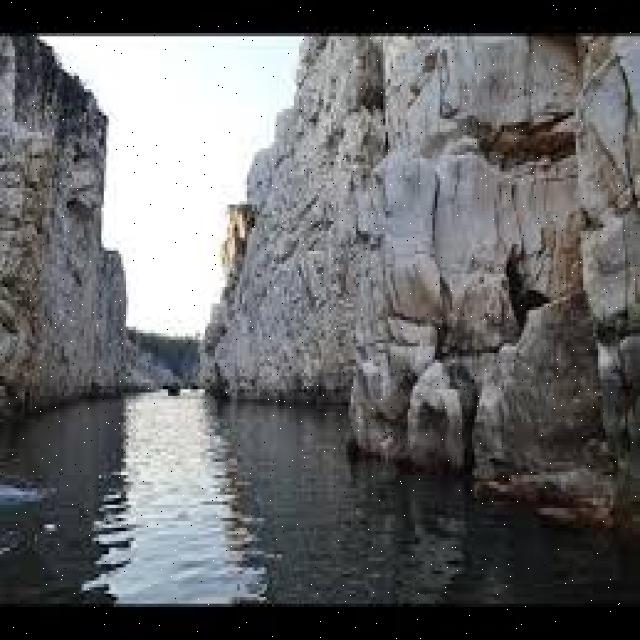Metamorphic: (192, 39, 632, 524)
